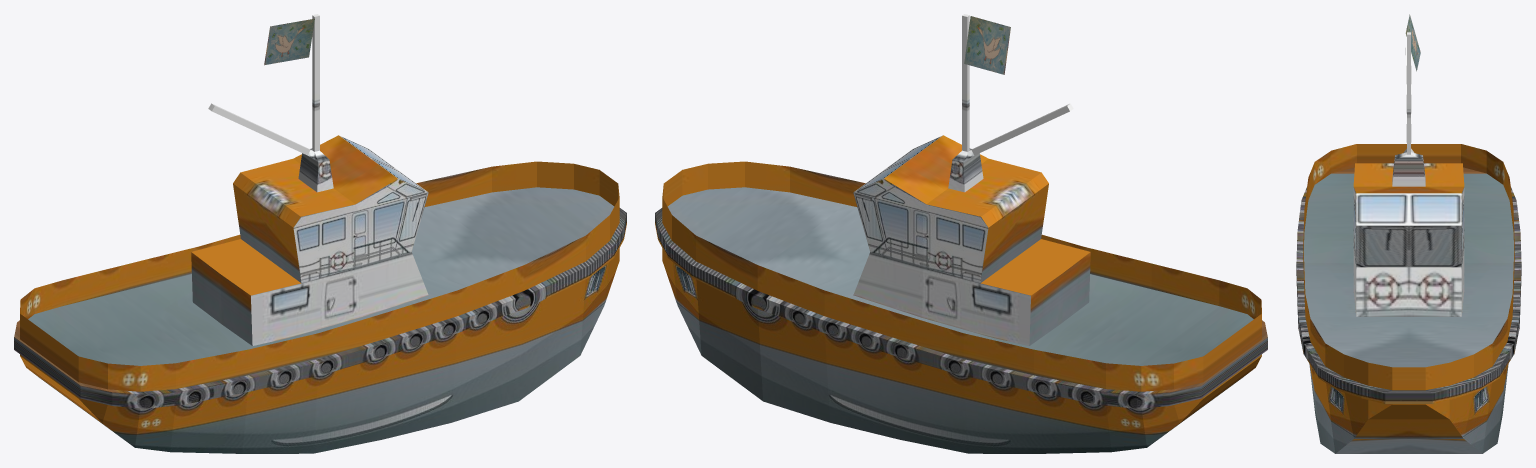
The model's file is Tugboat.glb.
3 views of the same model, side by side, from view 1: azimuth 30°, elevation 25°; view 2: azimuth 150°, elevation 25°; view 3: azimuth 270°, elevation 25° (orthographic). The views are drawn at different scales.
Parts seen in each view (by area): view 1: Cube, Plane; view 2: Cube, Plane; view 3: Cube, Plane.
Part boxes in pixels (x1,y1,x2,y2): Cube: (14,14,626,453); Plane: (264,18,314,65); Cube: (655,14,1267,453); Plane: (964,16,1010,74); Cube: (1296,32,1521,453); Plane: (1405,14,1420,71).
Size of the model in its own units: 4.3 by 2.82 by 1.67.
Materials: 2 (2 with a texture image).
